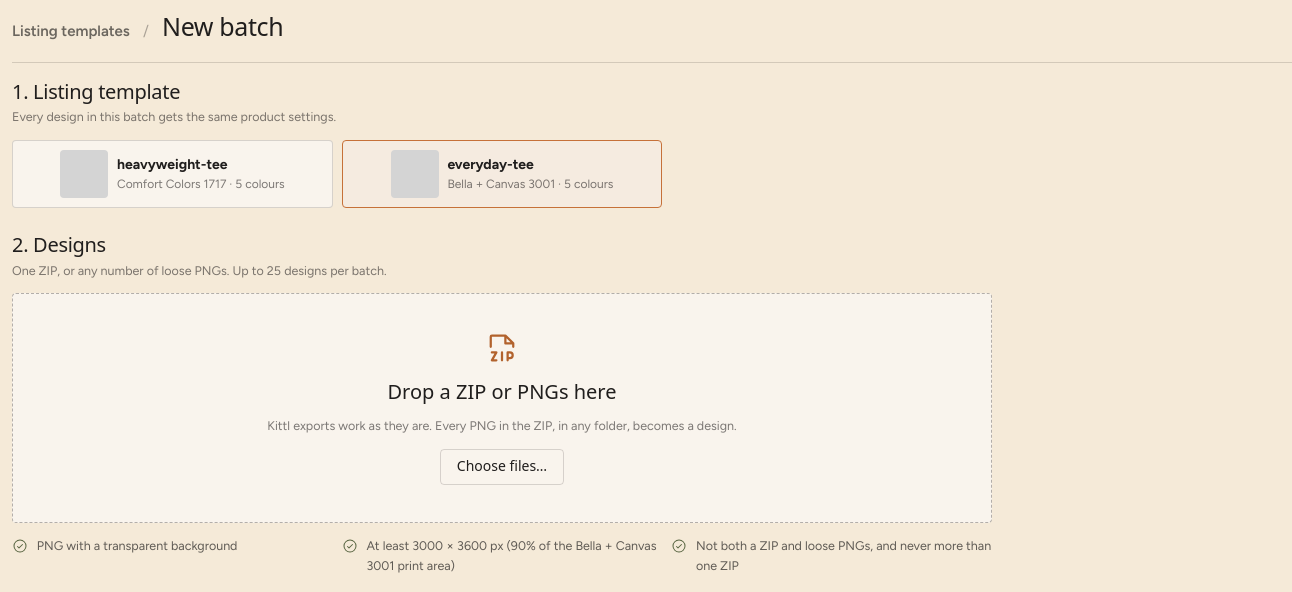
Test case: NewBatchPage › preselects ?template= and takes the size hint from its garment (UI doc §4)
expect the text "At least 3000 × 3600 px (90% of the Bella + Canvas 3001 print area)" is shown: met, box [342, 536, 662, 575]
Step 1. Click the radio button labelled "heavyweight-tee Comfort Colors 1717 · 5 colours" → (172, 174), box [12, 140, 333, 208]
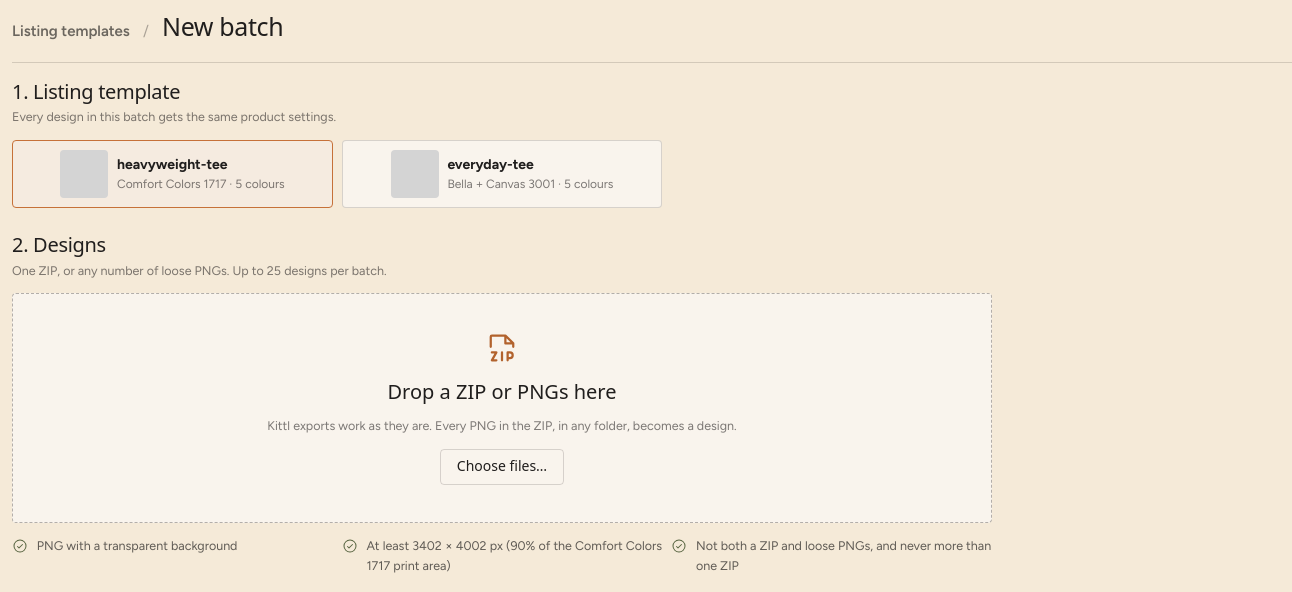
expect the text "At least 3402 × 4002 px (90% of the Comfort Colors 1717 print area)" is shown: met, box [342, 536, 662, 575]
